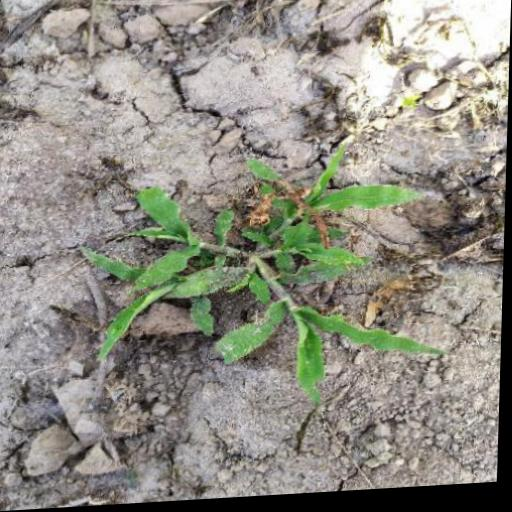weed: (63, 142, 457, 418)
